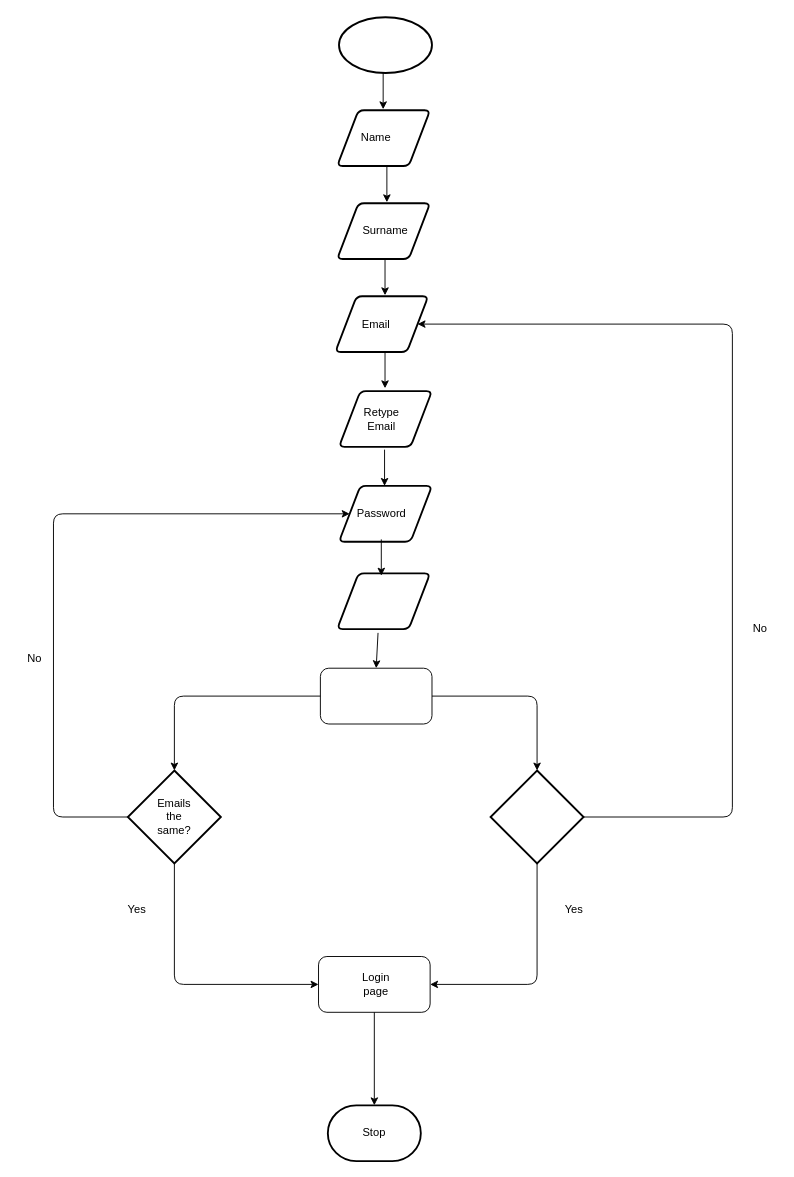
Image size: 794x1177. Some labels were removed from this diagram. Each missing label, with the box of its shape:
Click Submit: (319, 667, 432, 724)
Passwords the same?: (489, 769, 584, 864)
Retype Password: (336, 572, 431, 630)
Start: (338, 16, 432, 73)
